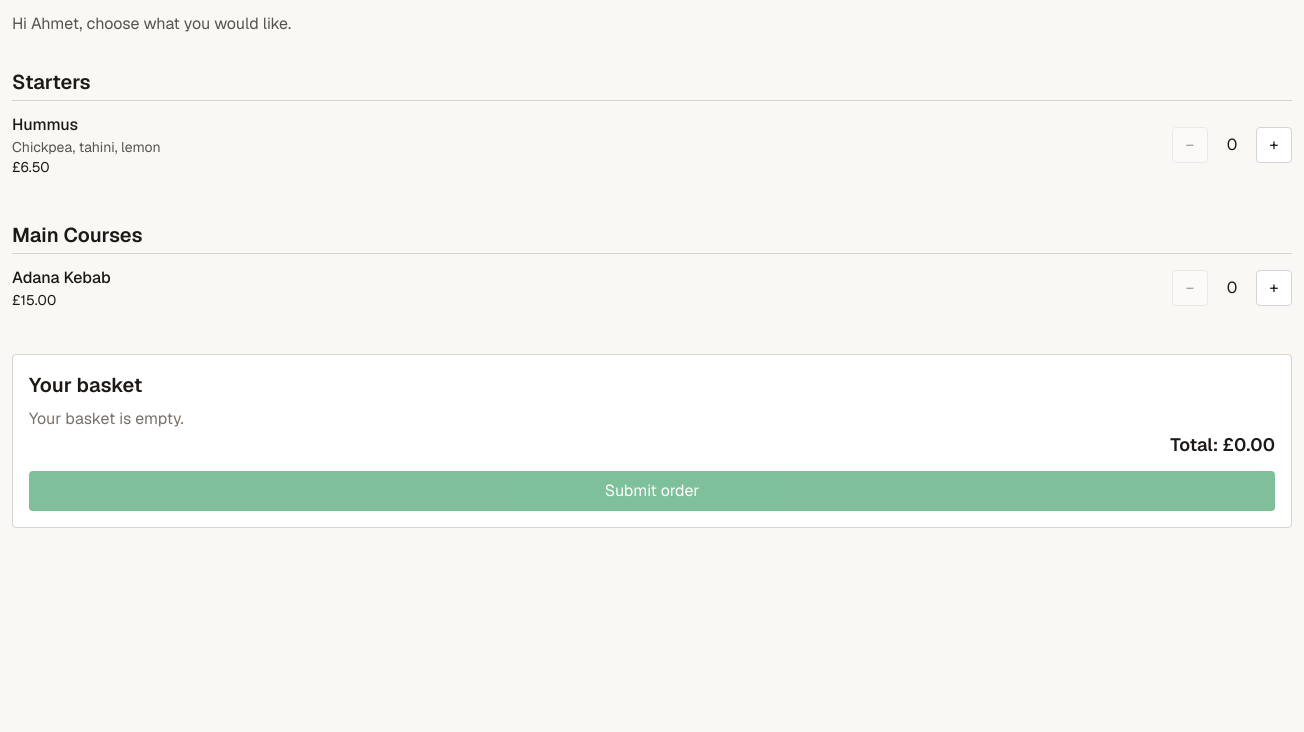
GuestOrder › shows the server error and keeps the basket
Expected: the text "Hummus" is shown, [12,114,78,135]
Click the button named "Add one Hummus": point(1274, 145) [1256,127,1292,163]
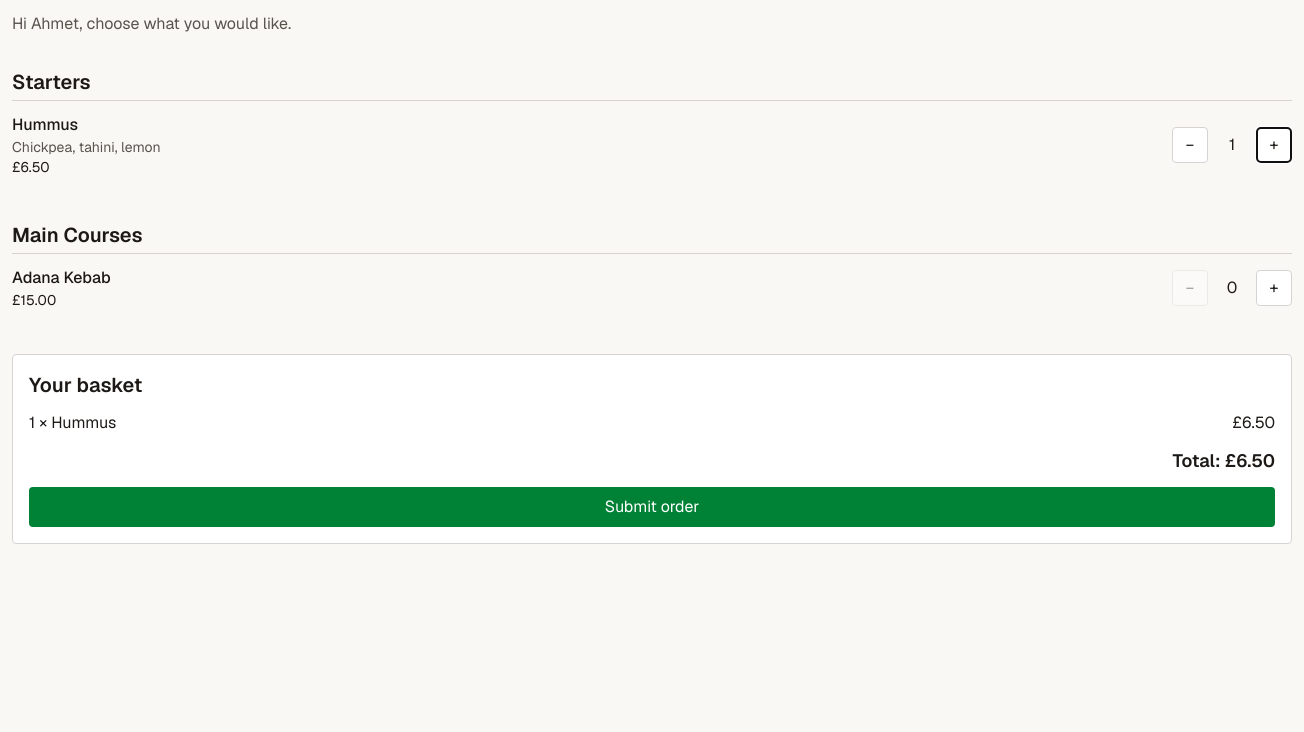
Click the button "Submit order": point(652, 507) [29,487,1275,527]
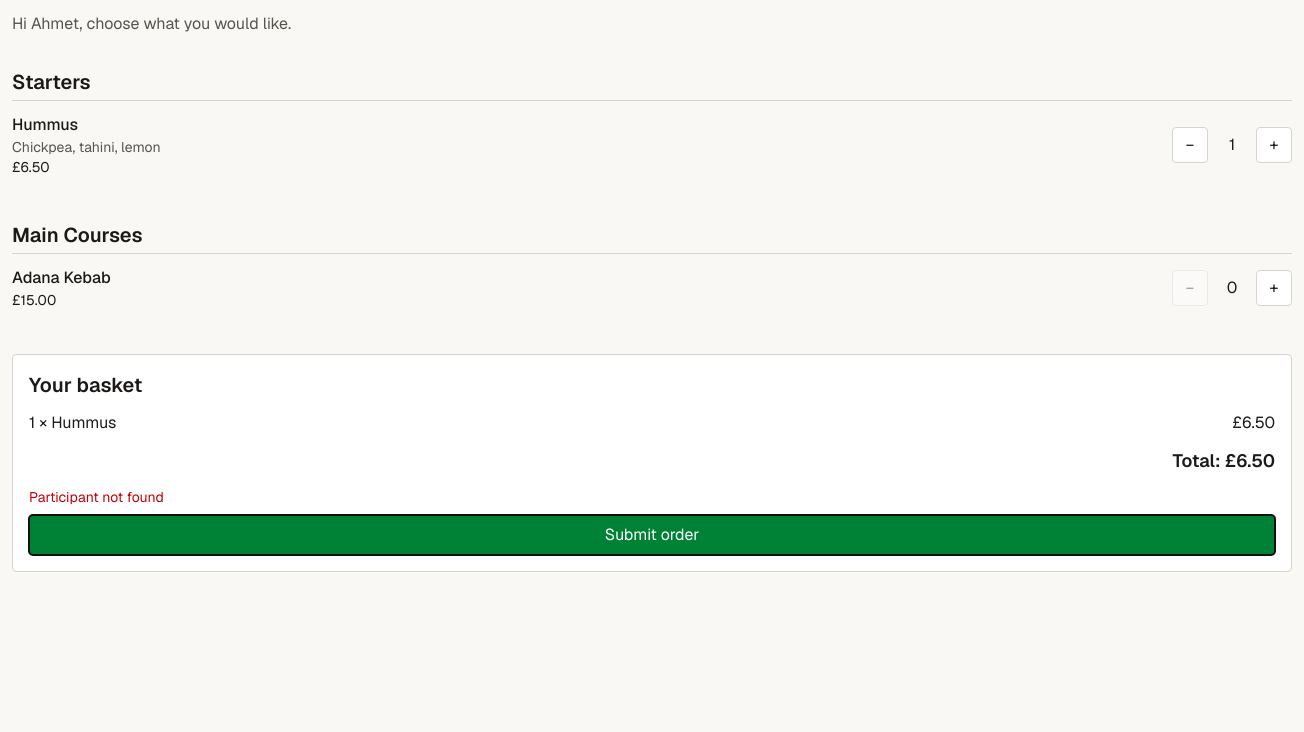
Now the text "Total: £6.50" is shown, box [1172,449,1275,472]
Now the message reads "Participant not found", box [29,488,164,506]
